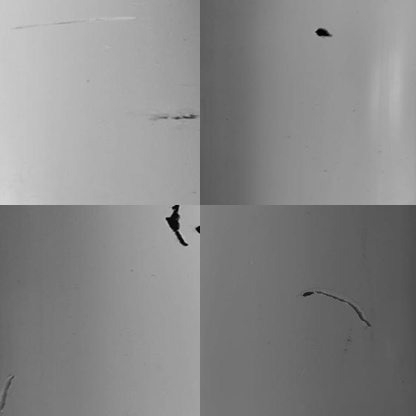fengxi: (296, 288, 374, 328)
kongdong: (161, 206, 188, 249), (314, 23, 335, 43)
